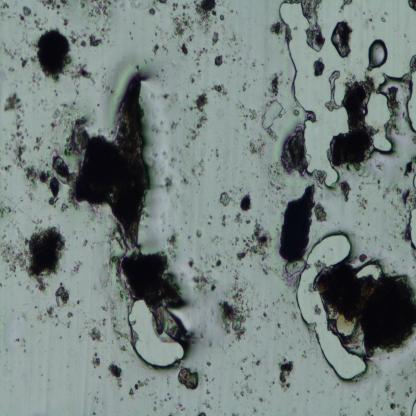Air bubble: (276, 0, 416, 190), (297, 228, 367, 379), (126, 300, 184, 370), (372, 74, 416, 153), (330, 21, 352, 58), (353, 259, 385, 281), (326, 70, 342, 112), (366, 41, 388, 71), (406, 209, 416, 249)
Background material: (72, 72, 153, 254), (315, 265, 416, 356), (114, 252, 185, 337), (333, 80, 374, 169), (33, 25, 71, 83), (217, 283, 252, 341), (27, 228, 64, 278), (4, 90, 27, 168), (163, 145, 204, 187), (235, 219, 271, 265), (24, 163, 62, 205), (296, 0, 326, 50), (278, 128, 308, 176), (0, 231, 30, 276), (184, 92, 208, 148), (186, 258, 222, 294), (168, 14, 194, 57), (381, 182, 416, 211), (193, 1, 223, 32), (267, 160, 286, 206), (226, 22, 247, 63), (49, 149, 72, 184), (0, 34, 28, 61), (189, 47, 208, 86), (177, 364, 201, 392), (235, 365, 254, 399), (80, 1, 112, 21), (387, 86, 401, 130), (154, 114, 182, 136), (84, 319, 108, 344), (256, 300, 275, 328), (236, 100, 258, 124), (277, 361, 294, 392), (0, 199, 22, 221), (127, 376, 150, 397), (40, 0, 69, 16), (270, 21, 292, 42), (154, 90, 180, 107), (108, 363, 124, 388), (69, 64, 92, 81), (248, 139, 268, 158), (210, 82, 230, 100), (54, 284, 70, 306), (168, 234, 180, 262), (267, 73, 279, 100), (402, 156, 416, 178), (312, 170, 330, 186), (0, 2, 13, 24), (87, 32, 103, 49), (273, 317, 287, 336), (314, 202, 326, 223), (162, 178, 176, 196), (239, 193, 252, 212), (386, 377, 398, 397), (356, 192, 368, 212), (45, 305, 58, 322), (341, 181, 351, 203), (313, 57, 324, 76), (20, 56, 37, 68), (219, 192, 231, 209), (18, 6, 32, 20), (259, 262, 271, 278), (402, 224, 411, 245), (91, 350, 100, 370), (211, 30, 221, 48), (354, 164, 367, 177), (33, 135, 44, 150), (63, 308, 72, 326), (212, 54, 225, 66), (35, 16, 46, 30), (70, 30, 79, 47), (151, 42, 161, 56), (70, 264, 82, 275), (51, 110, 61, 123), (221, 213, 229, 229), (341, 0, 353, 10), (60, 201, 70, 213), (313, 301, 321, 316), (200, 388, 211, 398), (407, 0, 416, 12), (148, 6, 157, 17), (193, 409, 207, 416), (235, 214, 242, 227), (290, 314, 298, 324), (405, 387, 413, 397), (79, 40, 88, 48), (203, 360, 212, 368), (214, 148, 221, 158), (204, 374, 210, 385), (255, 359, 262, 367), (390, 401, 396, 410), (62, 19, 71, 25), (196, 229, 202, 238), (242, 84, 248, 92), (159, 0, 168, 5), (381, 16, 386, 23)
Cellulose filter fibre: (257, 100, 283, 141)
Microfibre: (279, 184, 315, 264)
